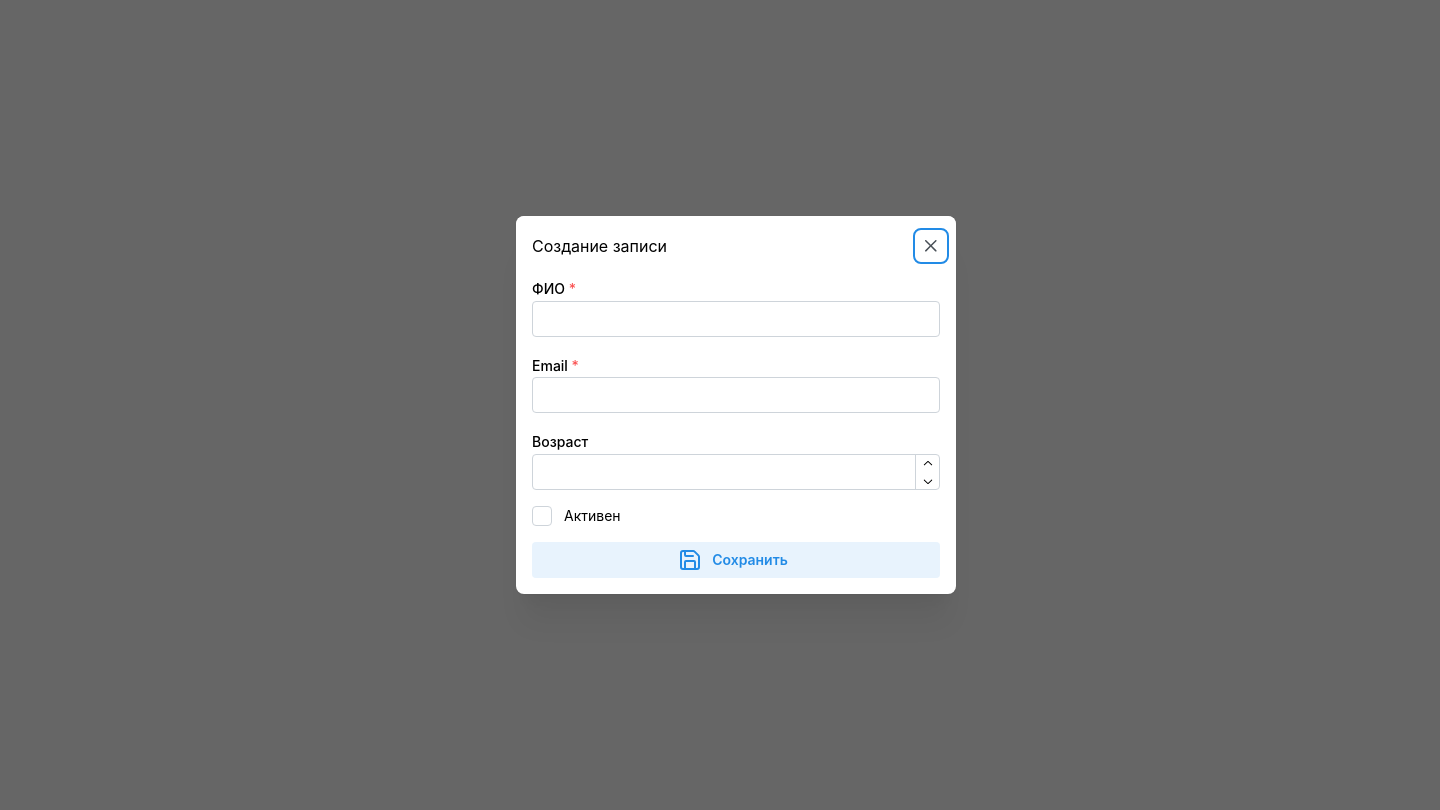
Test: CreateRecord › shows validation errors if required fields are empty
What coordinates should you click on to do the following:
click the button "Сохранить"
I would click on:
 (736, 560)
Its box is [532, 542, 940, 578].
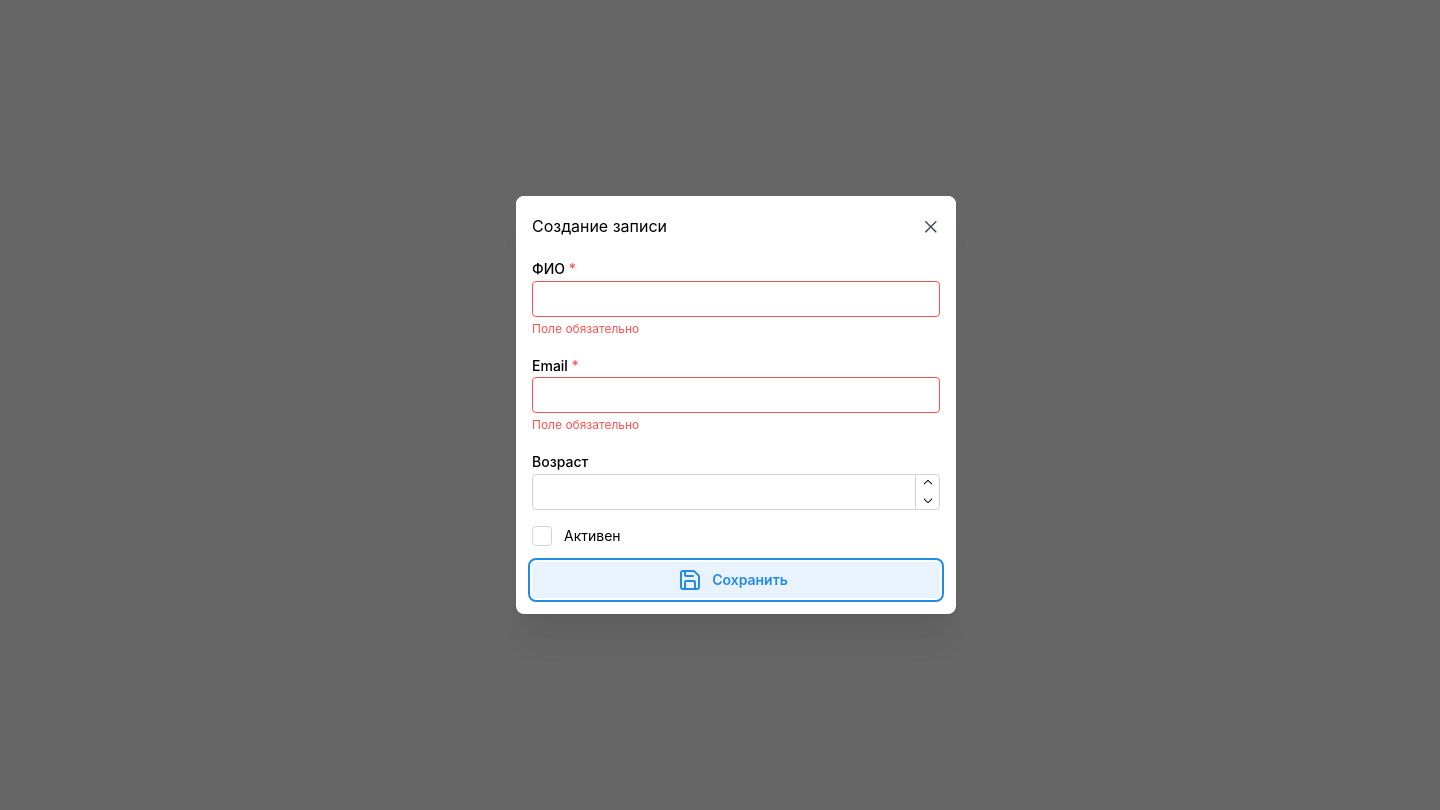
Expected: the text "Поле обязательно" is shown 2 times, [532, 321, 639, 336]; [532, 417, 639, 432]
